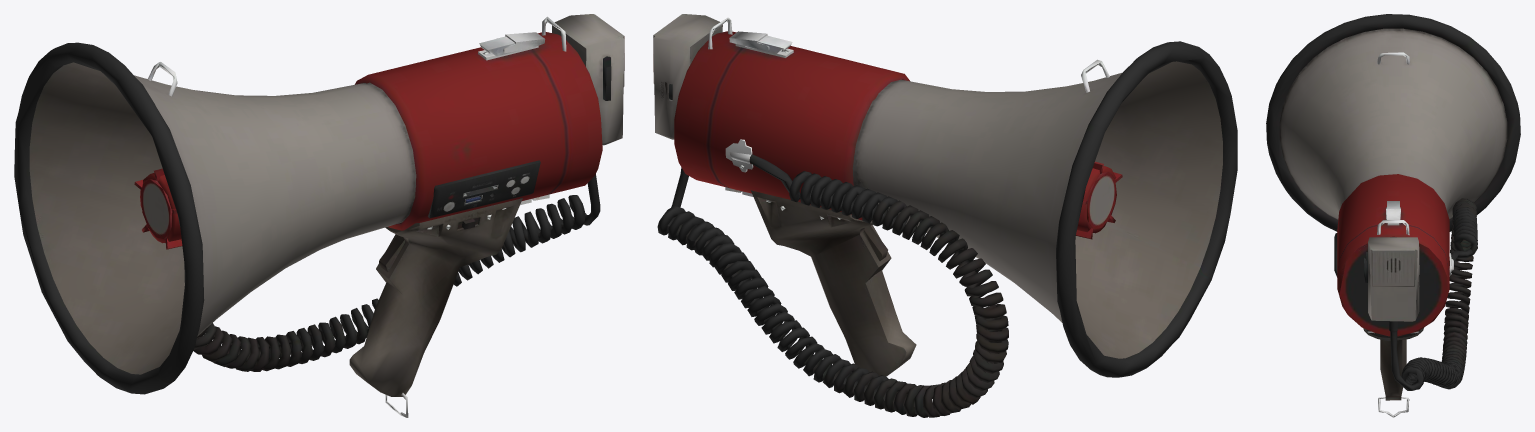
The model's file is Megaphone_01.glb.
3 renders of one model, left to right at view 1: azimuth 30°, elevation 25°; view 2: azimuth 150°, elevation 25°; view 3: azimuth 270°, elevation 25°, orthographic. The views are drawn at different scales.
Parts seen in each view (by area): view 1: Megaphone_01; view 2: Megaphone_01; view 3: Megaphone_01.
Part boxes in pixels (x1,y1,x2,y2): Megaphone_01: (14,14,624,417); Megaphone_01: (653,14,1237,417); Megaphone_01: (1266,14,1520,417).
Size of the model in its own units: 0.3707 by 0.3001 by 0.2284.
1 material, 1 textured.
